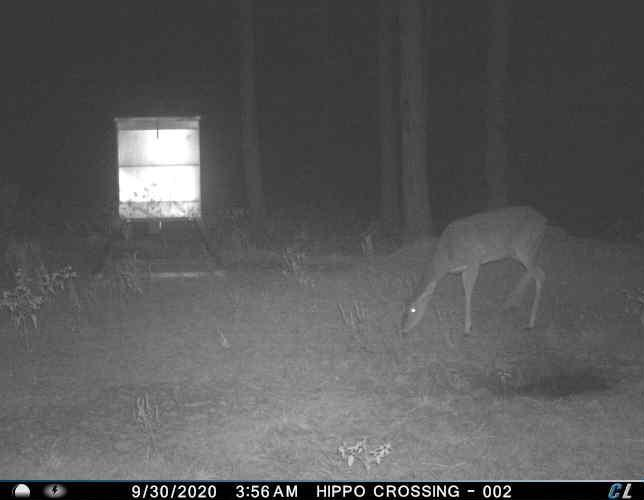Deer: (398, 200, 554, 340)
